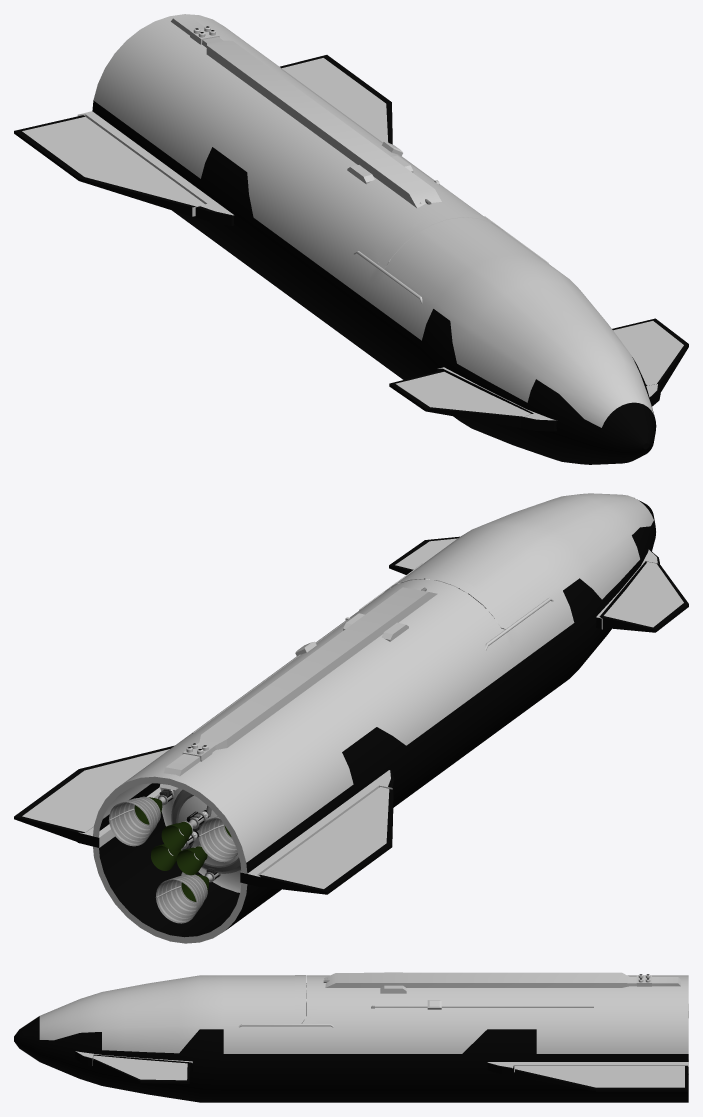
Rendered from starship.glb.
3 renders of one model, top to bottom at view 1: azimuth 30°, elevation 25°; view 2: azimuth 150°, elevation 25°; view 3: azimuth 270°, elevation 25°, orthographic. The views are drawn at different scales.
Visible parts, largest first — view 1: Starship_17, LeftAftFlap.002_7, LeftAftFlap.003_8, LeftFrontFlap.002_9, LeftFrontFlap.003_10, Cargo Door_5; view 2: Starship_17, LeftAftFlap.002_7, LeftAftFlap.003_8, LeftFrontFlap.002_9, Raptor2Vaccum.003_14, Raptor2Vaccum.005_16, Raptor2Vaccum.004_15, LeftFrontFlap.003_10, Cargo Door_5, Raptor2.005_13, Raptor2.004_12; view 3: Starship_17, LeftAftFlap.003_8, LeftFrontFlap.003_10, Cargo Door_5.
Boxes of the visible parts, x1,y1,x2,y2 form: Starship_17: (77,14,660,464); LeftAftFlap.002_7: (14,115,204,216); LeftAftFlap.003_8: (280,55,392,144); LeftFrontFlap.002_9: (389,370,531,427); LeftFrontFlap.003_10: (612,318,688,392); Cargo Door_5: (378,211,503,268); Starship_17: (77,493,659,943); LeftAftFlap.002_7: (259,787,393,894); LeftAftFlap.003_8: (14,745,174,841); LeftFrontFlap.002_9: (602,562,688,632); Raptor2Vaccum.003_14: (108,789,174,846); Raptor2Vaccum.005_16: (155,868,220,923); Raptor2Vaccum.004_15: (198,816,237,862); LeftFrontFlap.003_10: (389,536,459,574); Cargo Door_5: (385,573,510,628); Raptor2.005_13: (161,810,209,850); Raptor2.004_12: (151,830,198,870); Starship_17: (14,972,688,1102); LeftAftFlap.003_8: (515,1066,687,1091); LeftFrontFlap.003_10: (93,1055,189,1083); Cargo Door_5: (295,975,305,1023).
Bounding box in the file's own units: 4.03 × 2.11 × 10.61.
